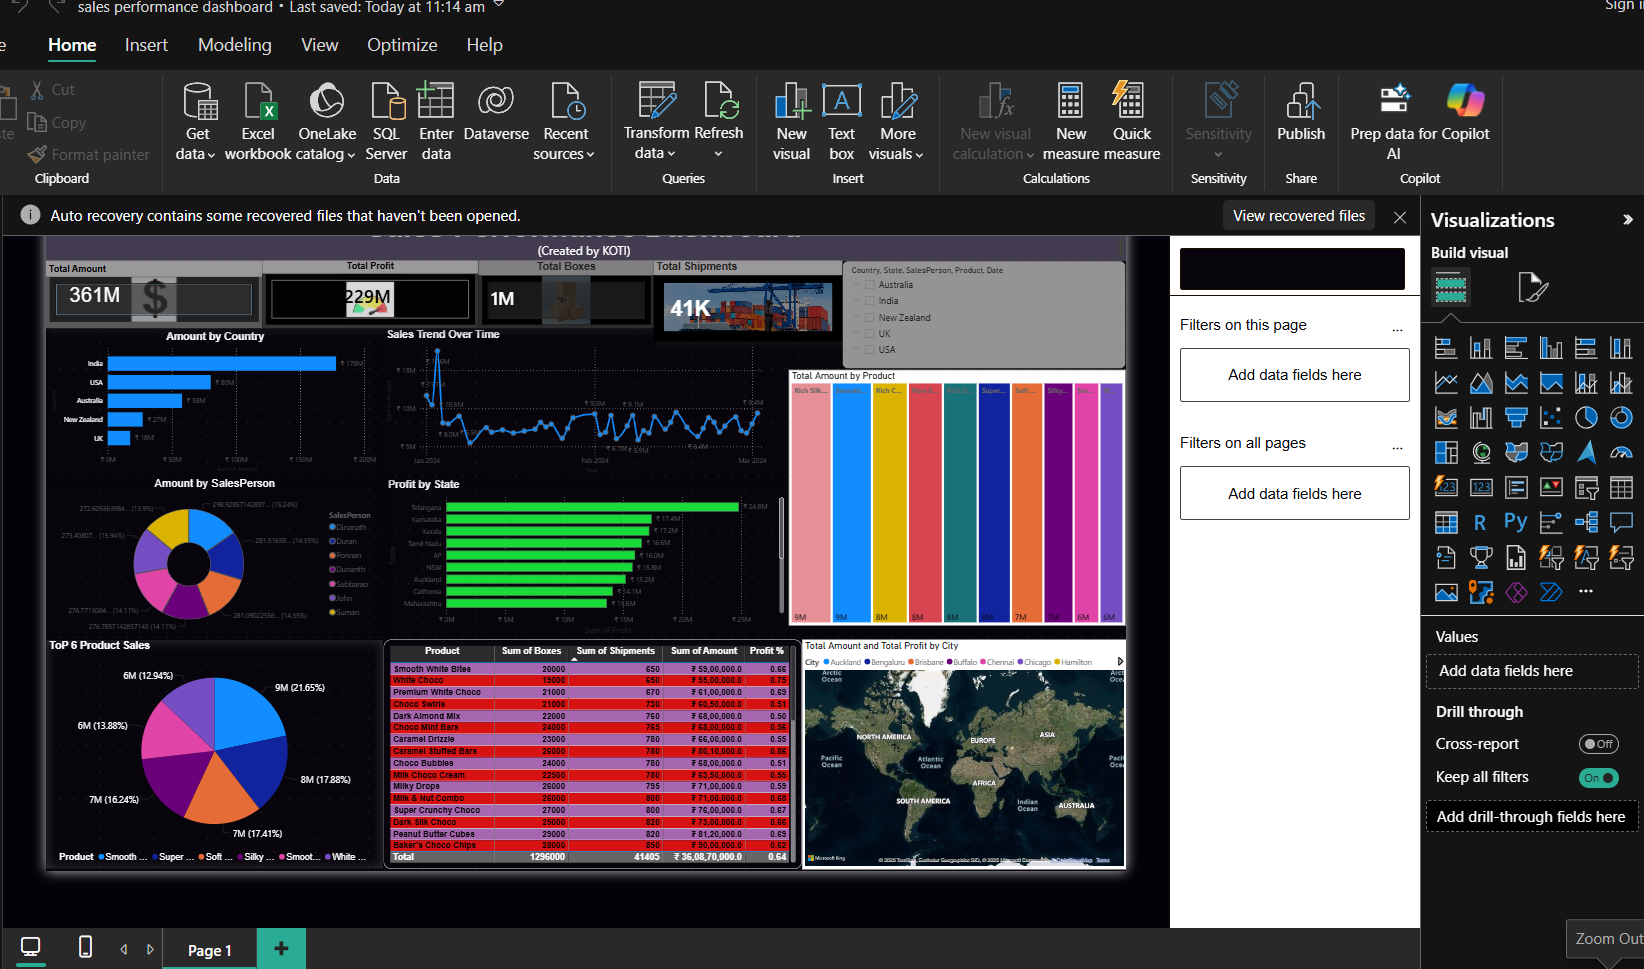

The page's visual inventory and layout, read from the dashboard file:
{"tool":"powerbi","page":{"name":"Page 1","canvas":[1920,1180],"ordinal":0},"visuals":[{"type":"barChart","title":"Amount by Country","fields":{"Category":["Table1.Country"],"Y":["Table1.Amount"]},"box":[0,216,600,264],"z":0},{"type":"clusteredBarChart","title":"Profit by State","fields":{"Category":["Table1.State"],"Y":["Table1.Profit"]},"box":[600,480,720,288],"z":1000},{"type":"lineChart","title":"Sales Trend Over Time","fields":{"Category":["Table1.Date.Variation.Date Hierarchy.Year","Table1.Date.Variation.Date Hierarchy.Quarter","Table1.Date.Variation.Date Hierarchy.Month","Table1.Date.Variation.Date Hierarchy.Day"],"Y":["Table1.Amount"]},"box":[600,216,696,264],"z":2000},{"type":"donutChart","title":" Amount  by SalesPerson","fields":{"Category":["Table1.SalesPerson"],"Y":["Table1.Avg Amount Per Box"]},"box":[0,480,600,288],"z":3000},{"type":"tableEx","fields":{"Values":["Table1.Product","Table1.Boxes","Table1.Shipments","Table1.Amount","Table1.Profit %"]},"box":[600,768,744,408],"z":4000},{"type":"cardVisual","title":"Total Amount","fields":{"Data":["Table1.Total Amount"]},"box":[0,96,384,120],"z":5000},{"type":"cardVisual","title":"Total Profit","fields":{"Data":["Table1.Total Profit"]},"box":[384,96,384,120],"z":6000},{"type":"cardVisual","title":"Total Boxes","fields":{"Data":["Table1.Total Boxes"]},"box":[768,96,312,120],"z":7000},{"type":"cardVisual","title":"Total Shipments","fields":{"Data":["Table1.Total Shipments"]},"box":[1080,96,336,144],"z":8000},{"type":"treemap","fields":{"Group":["Table1.Product"],"Values":["Table1.Total Amount"]},"box":[1320,288,600,456],"z":9000},{"type":"pieChart","title":"ToP 6  Product Sales","fields":{"Y":["Table1.Total Amount"],"Category":["Table1.Product"]},"box":[0,768,600,408],"z":10000},{"type":"slicer","fields":{"Values":["Table1.Country","Table1.State","Table1.SalesPerson","Table1.Product","Table1.Date"]},"box":[1416,96,504,192],"z":12000},{"type":"textbox","box":[0,0,1920,96],"z":13000},{"type":"filledMap","fields":{"Series":["Table1.City"]},"box":[1344,768,576,408],"z":13001}]}

Visuals, with their boxes on the page's 1920x1180 design canvas (x1, y1, x2, y2). These are canvas units, not pixel positions in the 1644x969 screenshot, which may show the page scaled, cropped or inside an application window:
"Amount by Country" barChart: x1=0, y1=216, x2=600, y2=480
"Profit by State" clusteredBarChart: x1=600, y1=480, x2=1320, y2=768
"Sales Trend Over Time" lineChart: x1=600, y1=216, x2=1296, y2=480
" Amount  by SalesPerson" donutChart: x1=0, y1=480, x2=600, y2=768
tableEx - Table1.Product x Table1.Boxes: x1=600, y1=768, x2=1344, y2=1176
"Total Amount" cardVisual: x1=0, y1=96, x2=384, y2=216
"Total Profit" cardVisual: x1=384, y1=96, x2=768, y2=216
"Total Boxes" cardVisual: x1=768, y1=96, x2=1080, y2=216
"Total Shipments" cardVisual: x1=1080, y1=96, x2=1416, y2=240
treemap - Table1.Product x Table1.Total Amount: x1=1320, y1=288, x2=1920, y2=744
"ToP 6  Product Sales" pieChart: x1=0, y1=768, x2=600, y2=1176
slicer - Table1.Country x Table1.State: x1=1416, y1=96, x2=1920, y2=288
textbox: x1=0, y1=0, x2=1920, y2=96
filledMap - Table1.City: x1=1344, y1=768, x2=1920, y2=1176
